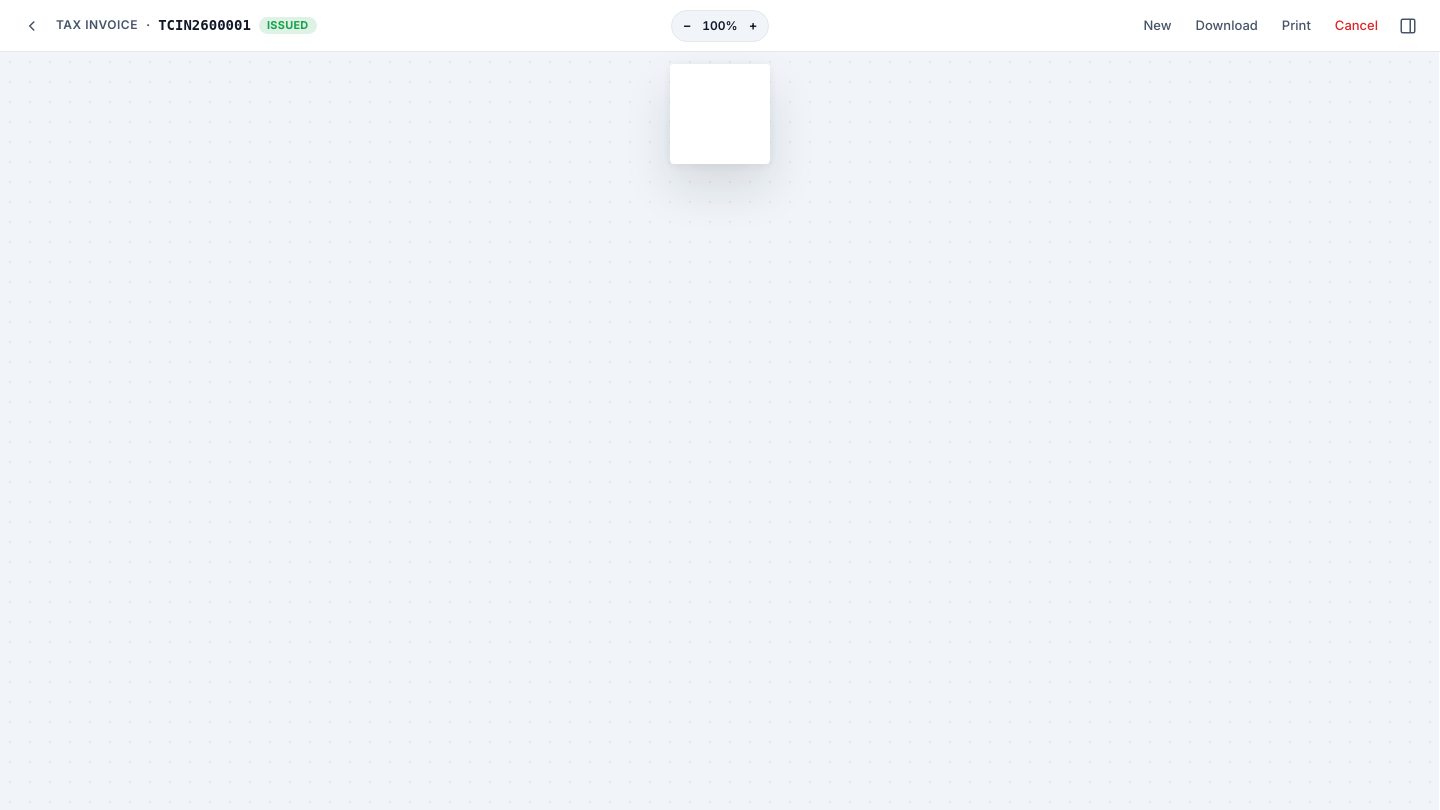
Test: InvoiceBuilderShell cancel warning › asks before cancelling and does nothing when the user says No
The width and height of the screenshot is (1440, 810).
Click the button titled "Cancel document".
click(1356, 26)  # box [1325,10,1388,42]
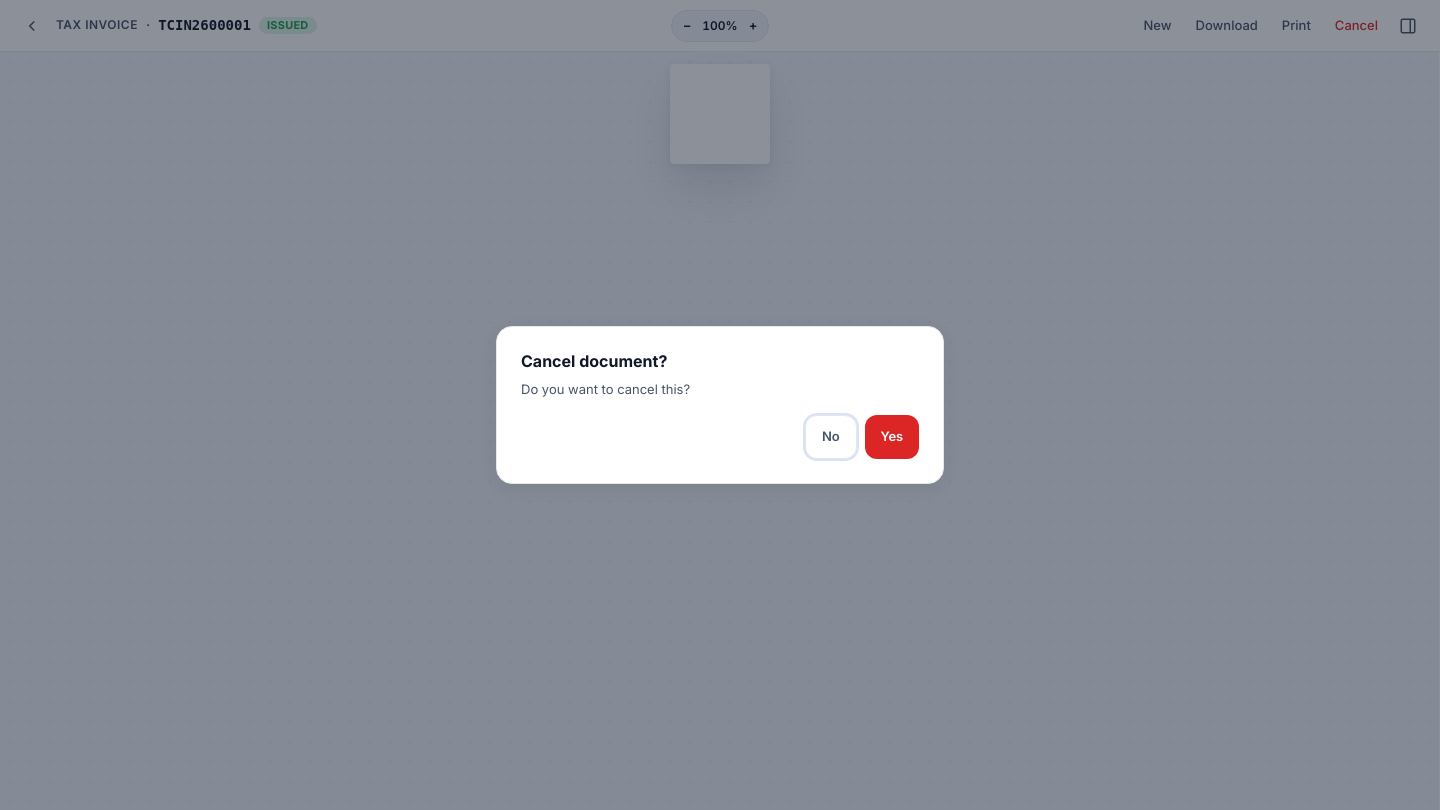
Now the text "Do you want to cancel this?" is shown, box [521,381,690,397]
Click the button "No".
click(831, 437)  # box [805,415,856,459]
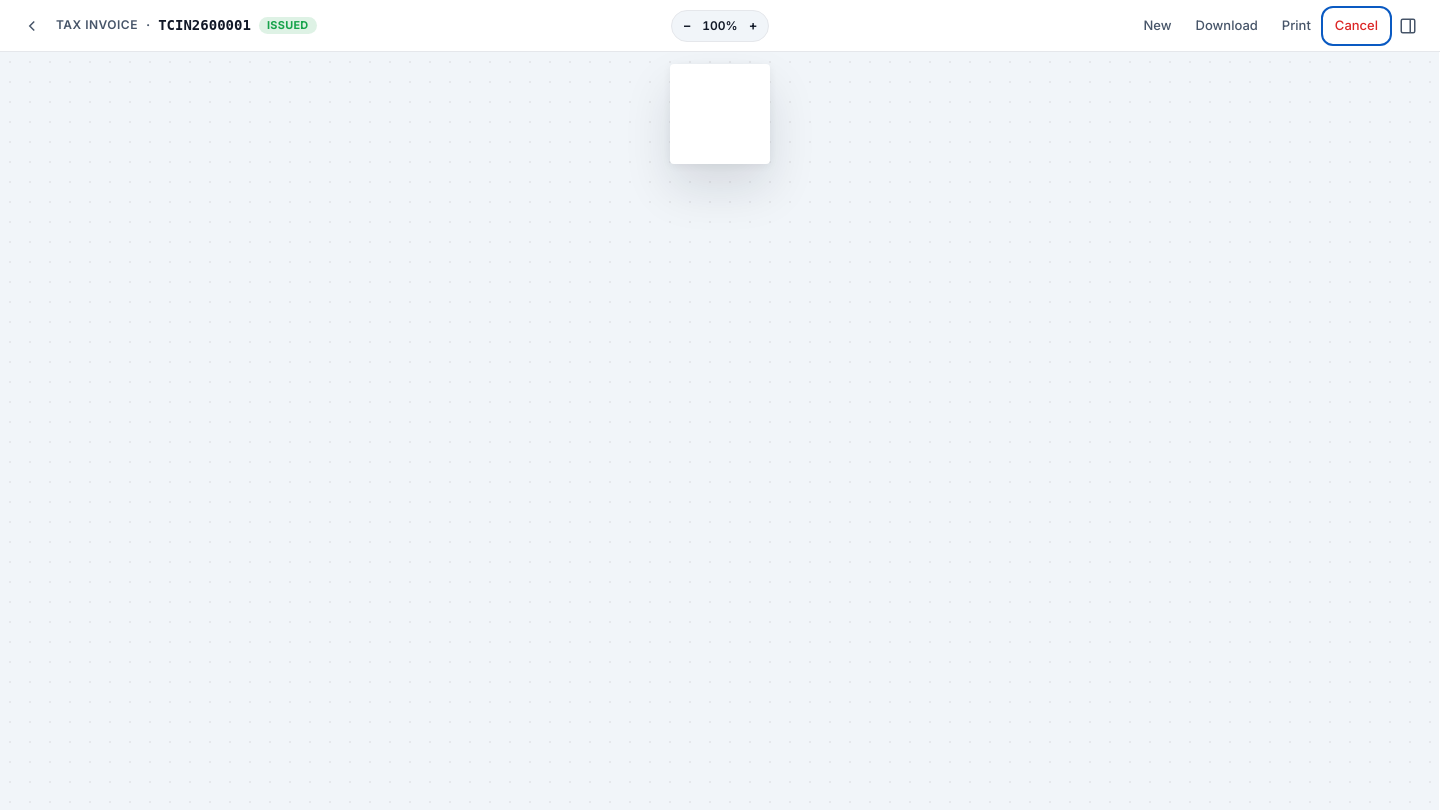
Now the text "Do you want to cancel this?" is gone
